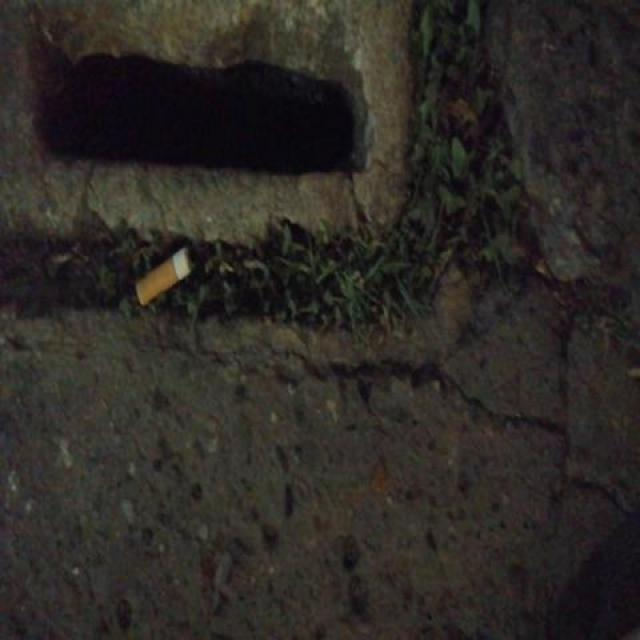non-organic waste: (130, 241, 199, 312)
